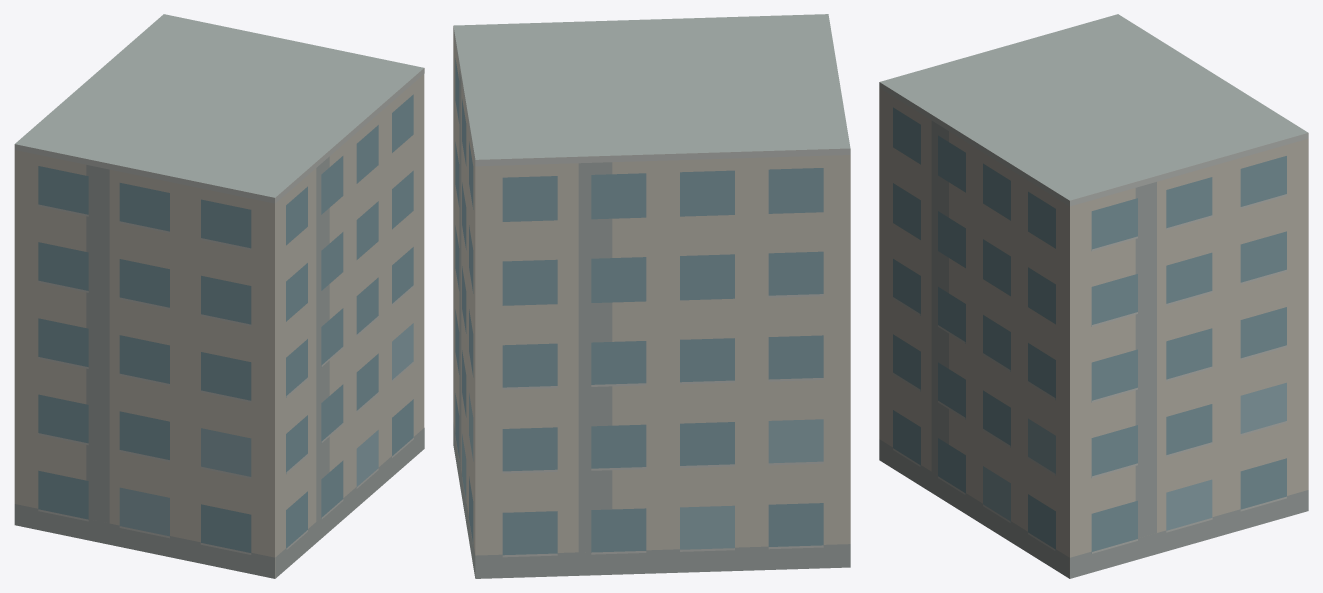
Rendered from survey-upis-32890093.glb.
3 views of the same model, side by side, from view 1: azimuth 30°, elevation 25°; view 2: azimuth 150°, elevation 25°; view 3: azimuth 270°, elevation 25° (orthographic). The views are drawn at different scales.
Parts seen in each view (by area): view 1: survey-upis-32890093.tmp; view 2: survey-upis-32890093.tmp; view 3: survey-upis-32890093.tmp.
Boxes of the visible parts, <box> form: survey-upis-32890093.tmp: <box>14,14,424,578</box>; survey-upis-32890093.tmp: <box>453,14,850,578</box>; survey-upis-32890093.tmp: <box>879,14,1308,578</box>.
Size of the model in its own units: 16.74 by 15.8 by 16.26.
